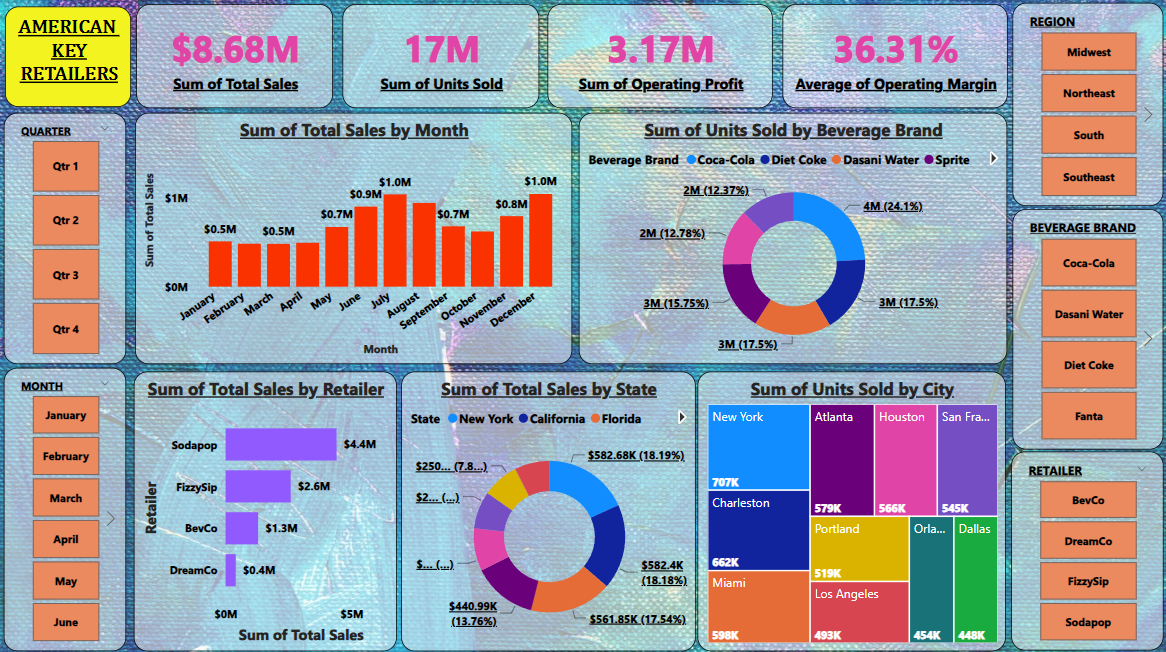

This screenshot's page, from the dashboard's own definition file:
{"tool":"powerbi","page":{"name":"Page 1","canvas":[1280,720],"ordinal":0},"visuals":[{"type":"slicer","fields":{"Values":["Sheet1.Invoice Date.Variation.Date Hierarchy.Month"]},"box":[4.3,404.3,134.3,311.4],"z":0},{"type":"slicer","fields":{"Values":["Sheet1.Invoice Date.Variation.Date Hierarchy.Quarter"]},"box":[4.3,125.3,134.3,275.7],"z":1000},{"type":"slicer","fields":{"Values":["Sheet1.Region"]},"box":[1111.4,4.3,165.7,222.9],"z":2000},{"type":"slicer","fields":{"Values":["Sheet1.Retailer"]},"box":[1110,497.1,167.1,218],"z":3000},{"type":"slicer","fields":{"Values":["Sheet1.Beverage Brand"]},"box":[1111.4,230,165.7,264.3],"z":4000},{"type":"card","fields":{"Values":["Sum(Sheet1.Total Sales)"]},"box":[150,5.7,215.7,114.3],"z":5000},{"type":"card","fields":{"Values":["Avg(Sheet1.Operating Margin)"]},"box":[858.6,5.7,247.1,114.3],"z":6000},{"type":"card","fields":{"Values":["Sum(Sheet1.Operating Profit)"]},"box":[600.7,5.7,247.1,114.3],"z":7000},{"type":"card","fields":{"Values":["Sum(Sheet1.Units Sold)"]},"box":[375.7,5.7,215.7,114.3],"z":8000},{"type":"columnChart","fields":{"Category":["Sheet1.Invoice Date.Variation.Date Hierarchy.Month"],"Y":["Sum(Sheet1.Total Sales)"]},"box":[148.6,125.3,480,275.7],"z":9000},{"type":"donutChart","fields":{"Category":["Sheet1.Beverage Brand"],"Y":["Sum(Sheet1.Units Sold)"]},"box":[635.7,125.3,470,275.7],"z":10000},{"type":"barChart","fields":{"Y":["Sum(Sheet1.Total Sales)"],"Category":["Sheet1.Retailer"]},"box":[147.1,408.6,288.6,307.1],"z":11000},{"type":"treemap","fields":{"Group":["Sheet1.City"],"Values":["Sum(Sheet1.Units Sold)"]},"box":[765.7,408.6,338.6,307.1],"z":12000},{"type":"donutChart","fields":{"Category":["Sheet1.State"],"Y":["Sum(Sheet1.Total Sales)"]},"box":[440,408.6,322.9,307.1],"z":13000},{"type":"textbox","box":[5.7,8.6,138.6,110],"z":13001}]}

Visuals, with their boxes in screenshot pixels (x1, y1, x2, y2), scaled from the page's 1280x720 canvas onto the 1166x652 screenshot:
slicer - Sheet1.Invoice Date.Variation.Date Hierarchy.Month: <box>4,366,126,648</box>
slicer - Sheet1.Invoice Date.Variation.Date Hierarchy.Quarter: <box>4,113,126,363</box>
slicer - Sheet1.Region: <box>1012,4,1163,206</box>
slicer - Sheet1.Retailer: <box>1011,450,1163,648</box>
slicer - Sheet1.Beverage Brand: <box>1012,208,1163,448</box>
card - Sum(Sheet1.Total Sales): <box>137,5,333,109</box>
card - Avg(Sheet1.Operating Margin): <box>782,5,1007,109</box>
card - Sum(Sheet1.Operating Profit): <box>547,5,772,109</box>
card - Sum(Sheet1.Units Sold): <box>342,5,539,109</box>
columnChart - Sheet1.Invoice Date.Variation.Date Hierarchy.Month x Sum(Sheet1.Total Sales): <box>135,113,573,363</box>
donutChart - Sheet1.Beverage Brand x Sum(Sheet1.Units Sold): <box>579,113,1007,363</box>
barChart - Sum(Sheet1.Total Sales) x Sheet1.Retailer: <box>134,370,397,648</box>
treemap - Sheet1.City x Sum(Sheet1.Units Sold): <box>698,370,1006,648</box>
donutChart - Sheet1.State x Sum(Sheet1.Total Sales): <box>401,370,695,648</box>
textbox: <box>5,8,131,107</box>
